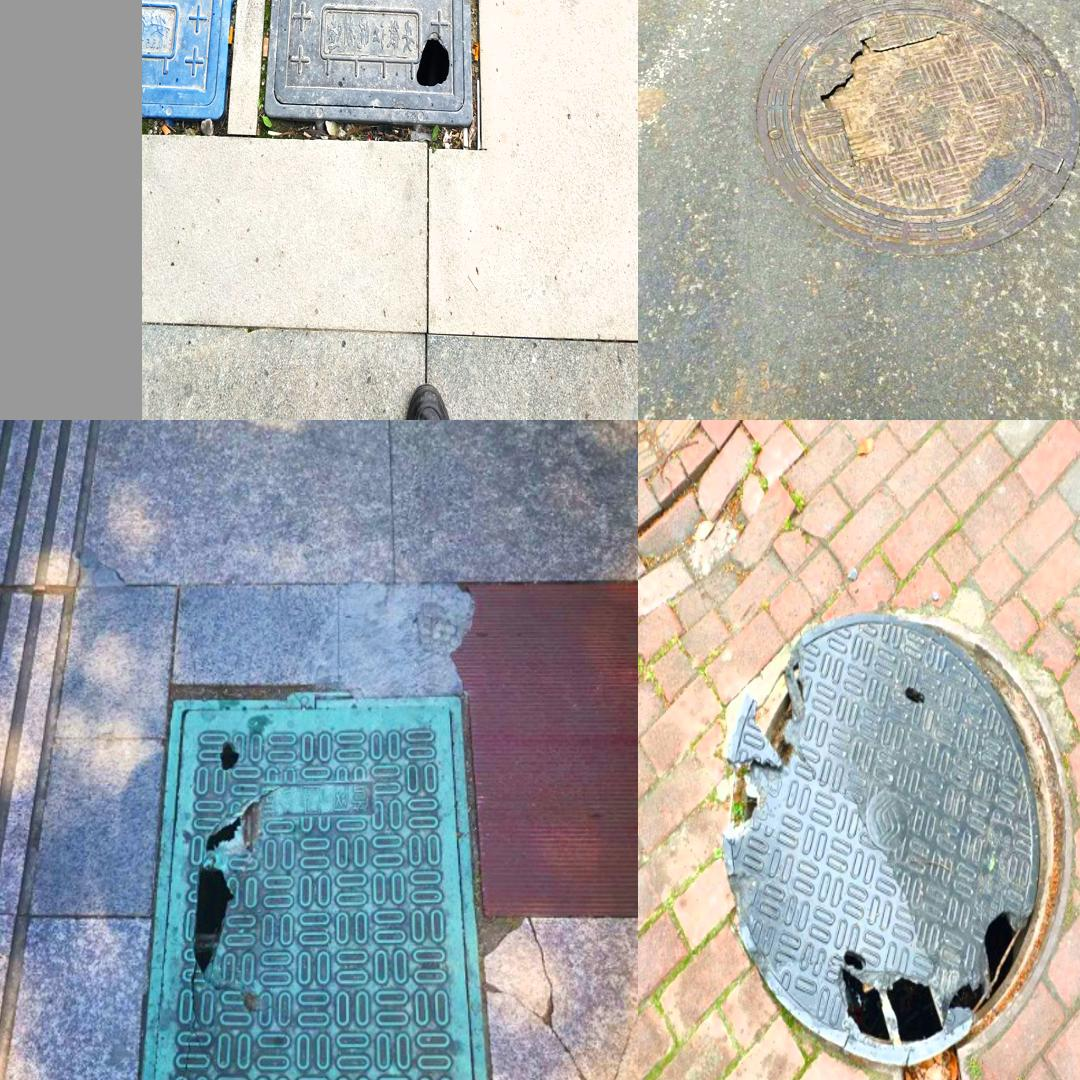broke: (721, 612, 1074, 1080), (117, 692, 505, 1080), (761, 0, 1077, 245), (262, 0, 473, 117), (142, 0, 255, 119)
